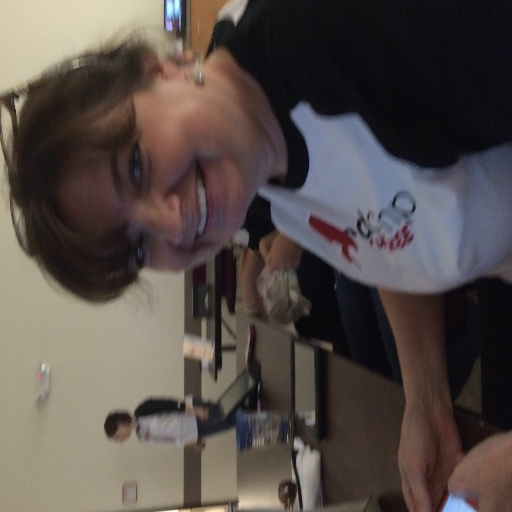hand: (389, 345, 472, 512), (446, 429, 511, 511), (264, 231, 302, 271), (239, 270, 265, 310), (257, 229, 277, 266), (195, 407, 211, 421), (192, 442, 206, 455)
